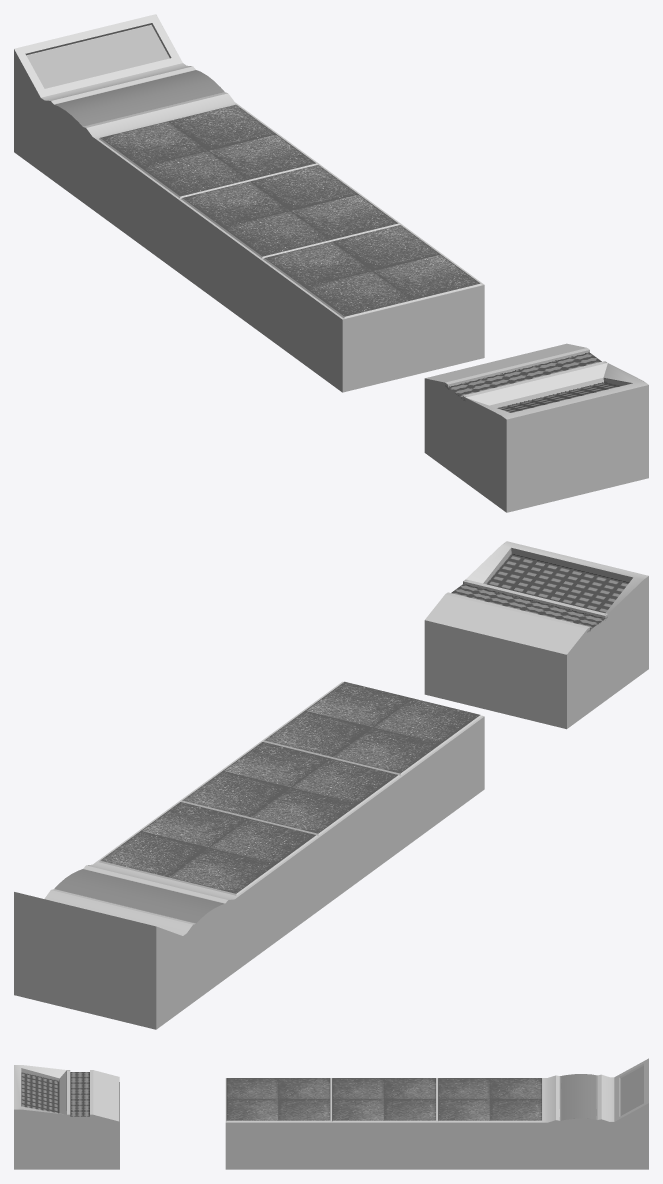
File: WallSolidOpening_1_4.fbx
The picture shows the model from 3 angles, top to bottom: view 1: azimuth 30°, elevation 25°; view 2: azimuth 150°, elevation 25°; view 3: azimuth 270°, elevation 25°; orthographic projection. The views are drawn at different scales.
Visible parts, largest first — view 1: Wall_solid_1_4.001; view 2: Wall_solid_1_4.001; view 3: Wall_solid_1_4.001.
Part boxes in pixels (x1,y1,x2,y2): Wall_solid_1_4.001: (14,14,648,512); Wall_solid_1_4.001: (14,541,648,1029); Wall_solid_1_4.001: (14,1058,648,1169).
Size of the model in its own units: 1 by 0.6947 by 6.
